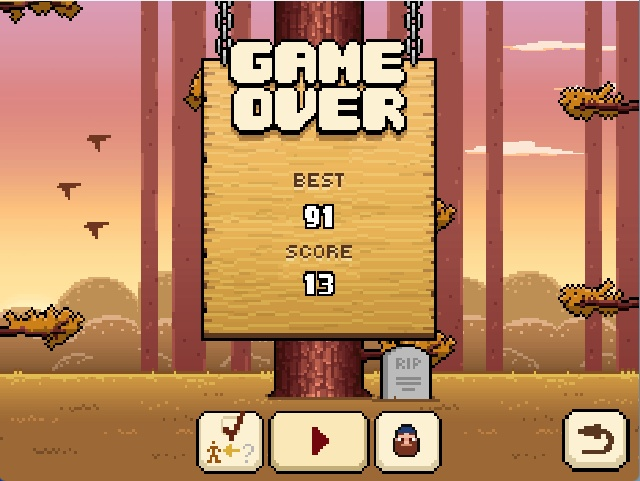game_over: (223, 34, 416, 147)
